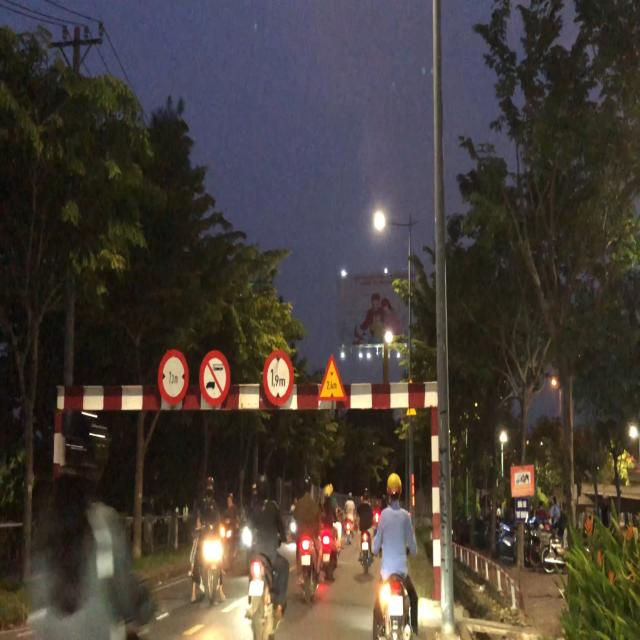Bien bao cam xe oto khach va xe oto tai: (196, 339, 233, 409)
Bien bao chieu cao tinh khong thuc te: (316, 349, 346, 406)
Bien bao han che chieu cao: (262, 347, 295, 411)
